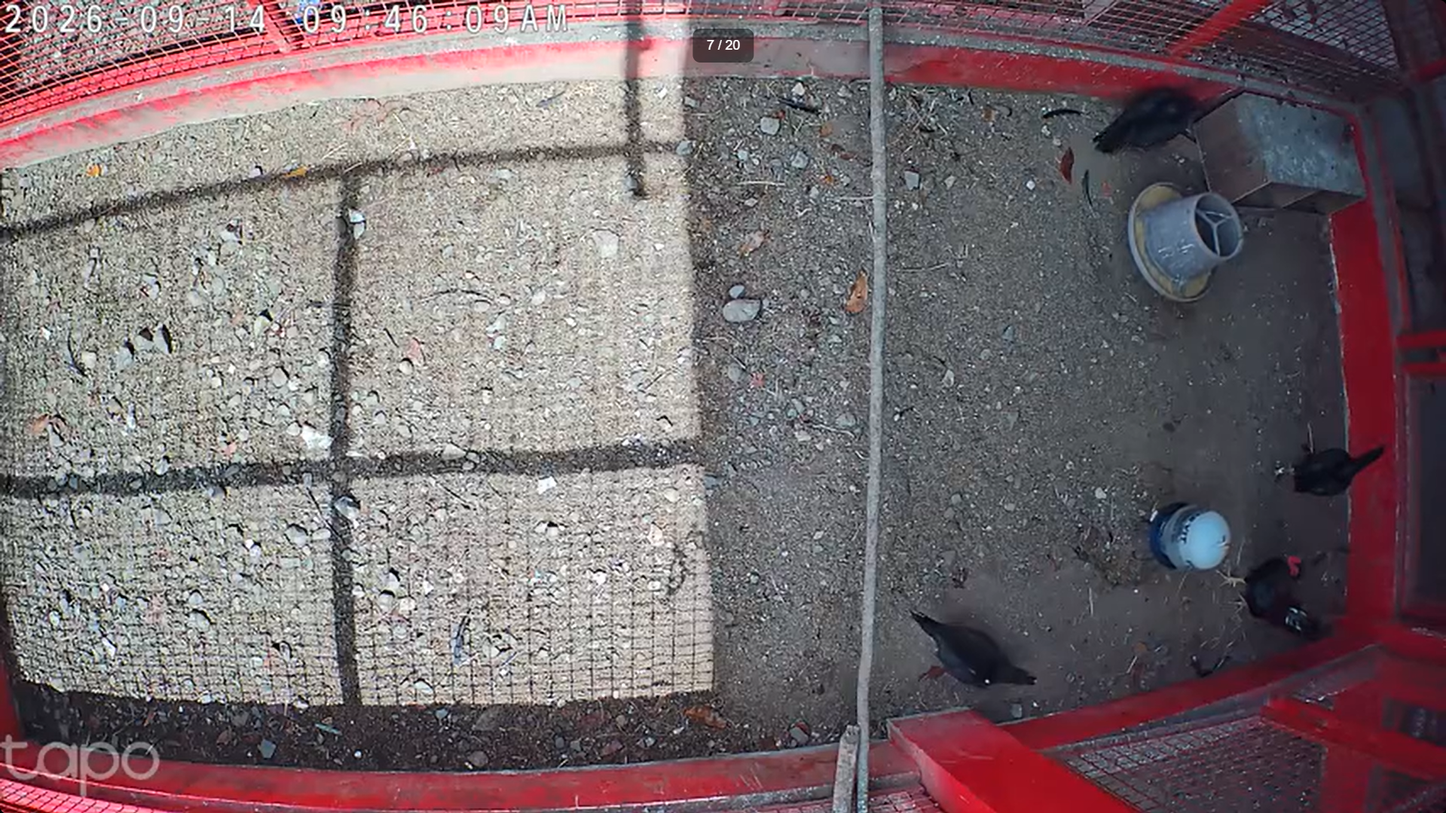Chicken: (907, 606, 1041, 691), (1271, 439, 1392, 499)
